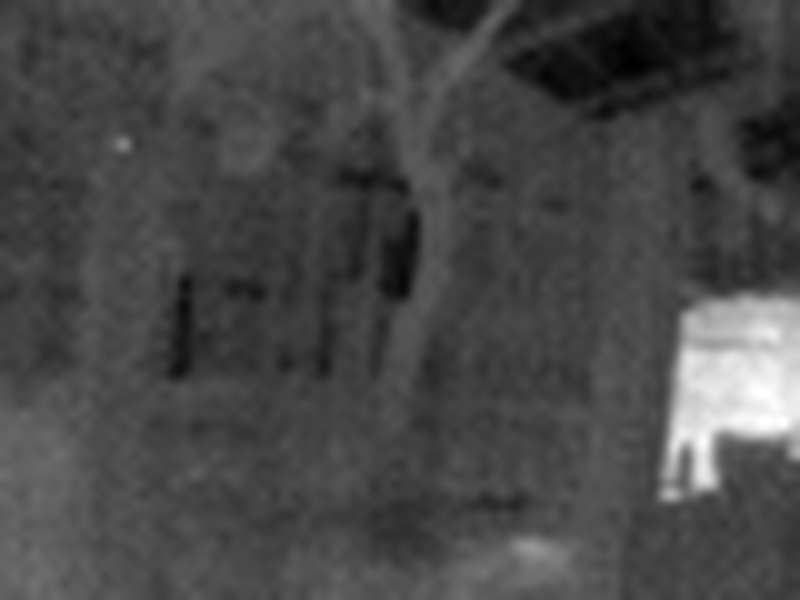elephant: (635, 297, 800, 495)
